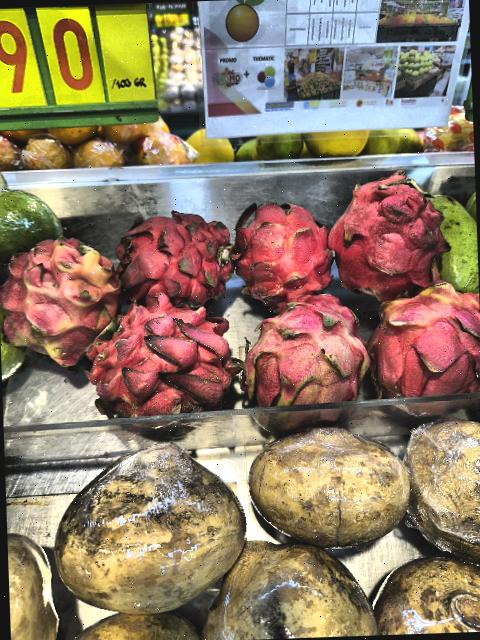buah-naga-belum-matang: (364, 275, 480, 413), (242, 296, 369, 418), (0, 240, 119, 369)
buah-naga-matang: (82, 304, 239, 418), (328, 171, 452, 296), (223, 193, 338, 312), (103, 212, 239, 304)
